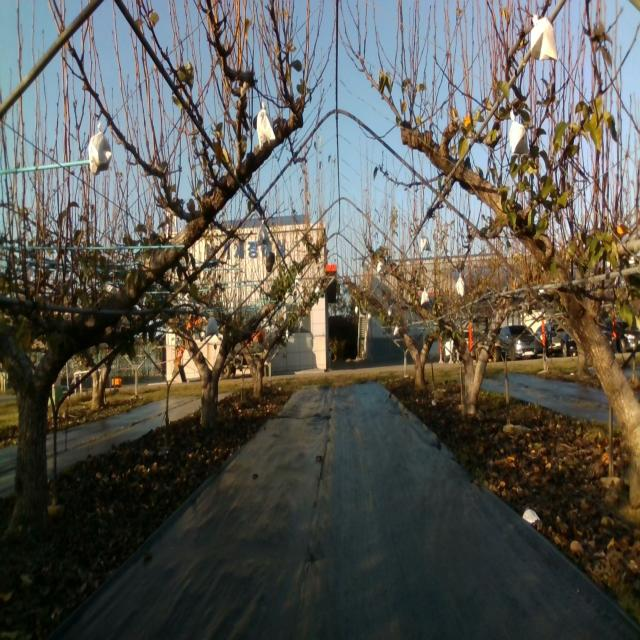pearbags: (86, 122, 112, 178), (529, 14, 558, 62), (255, 102, 275, 146), (508, 112, 528, 156), (256, 220, 271, 247), (204, 314, 219, 338)
